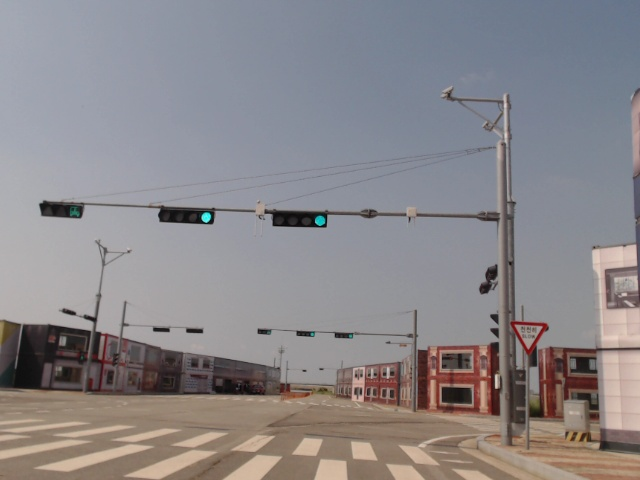straight_green_4: (273, 209, 328, 229), (160, 207, 216, 224), (297, 331, 316, 338), (335, 332, 352, 339)
